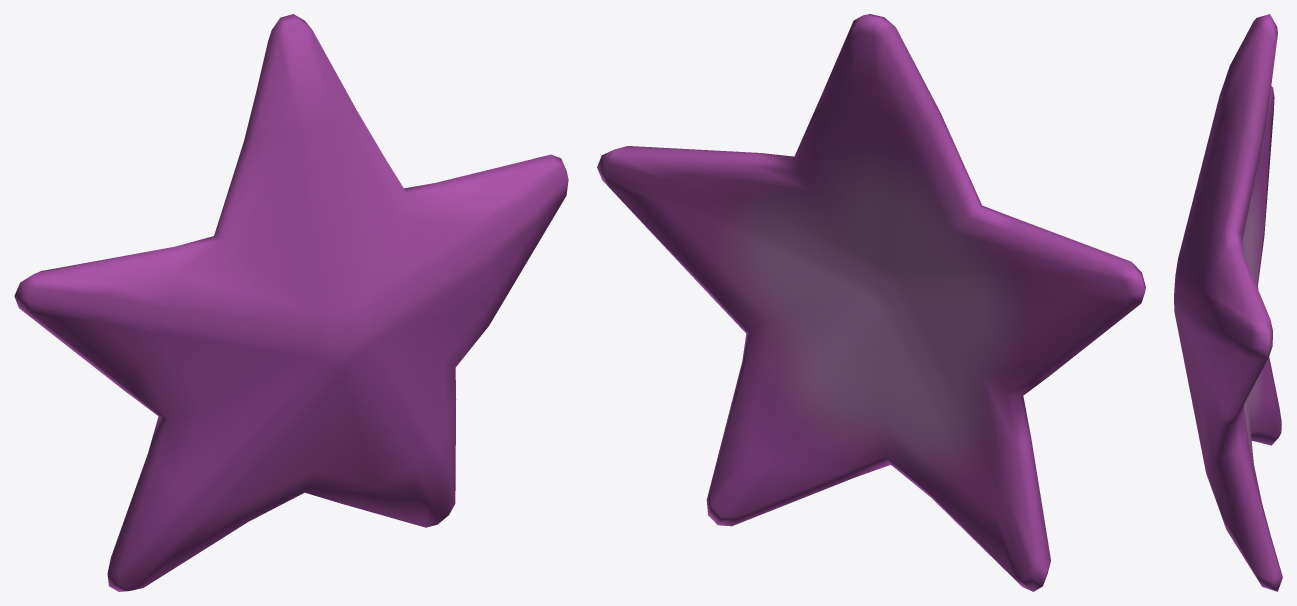
The model's file is Starfish_02.fbx.
3 renders of one model, left to right at view 1: azimuth 30°, elevation 25°; view 2: azimuth 150°, elevation 25°; view 3: azimuth 270°, elevation 25°, orthographic. The views are drawn at different scales.
Parts seen in each view (by area): view 1: Starfish02; view 2: Starfish02; view 3: Starfish02.
Part boxes in pixels (x1,y1,x2,y2): Starfish02: (14,14,568,591); Starfish02: (597,14,1145,591); Starfish02: (1174,14,1282,591).
Bounding box in the file's own units: 1.77 × 1.68 × 0.326.
1 material, 1 textured.
